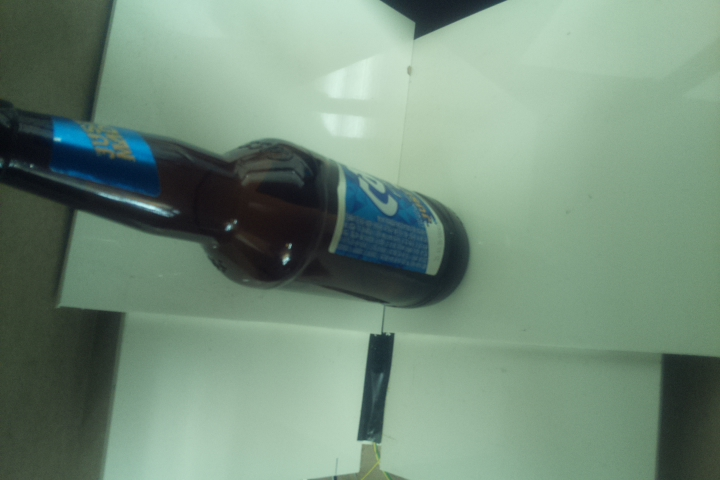makju: (1, 95, 470, 311)
